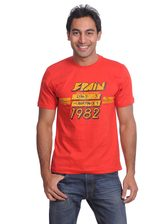clothoes: (33, 54, 136, 173)
